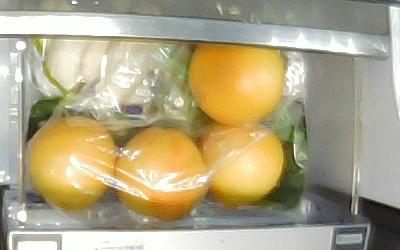grapefruit: (189, 44, 284, 123)
grapefruit_vinyl: (115, 126, 207, 219), (28, 115, 116, 210), (196, 121, 283, 206)
